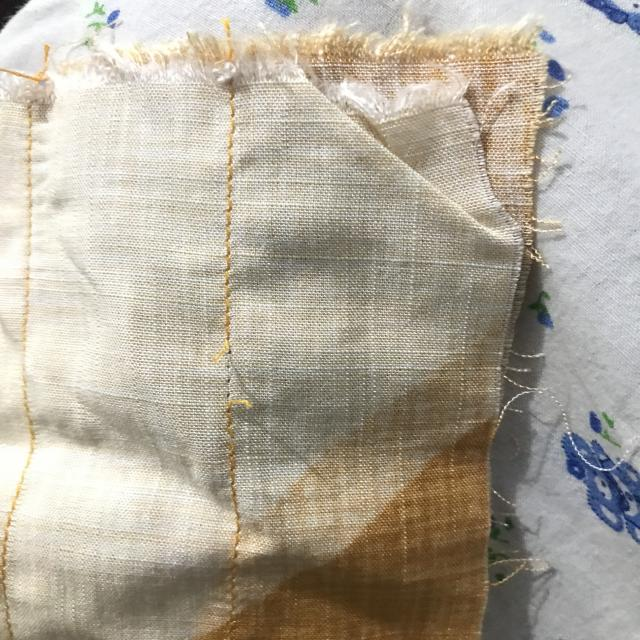broken: (193, 344, 270, 421)
good: (211, 192, 241, 302)
